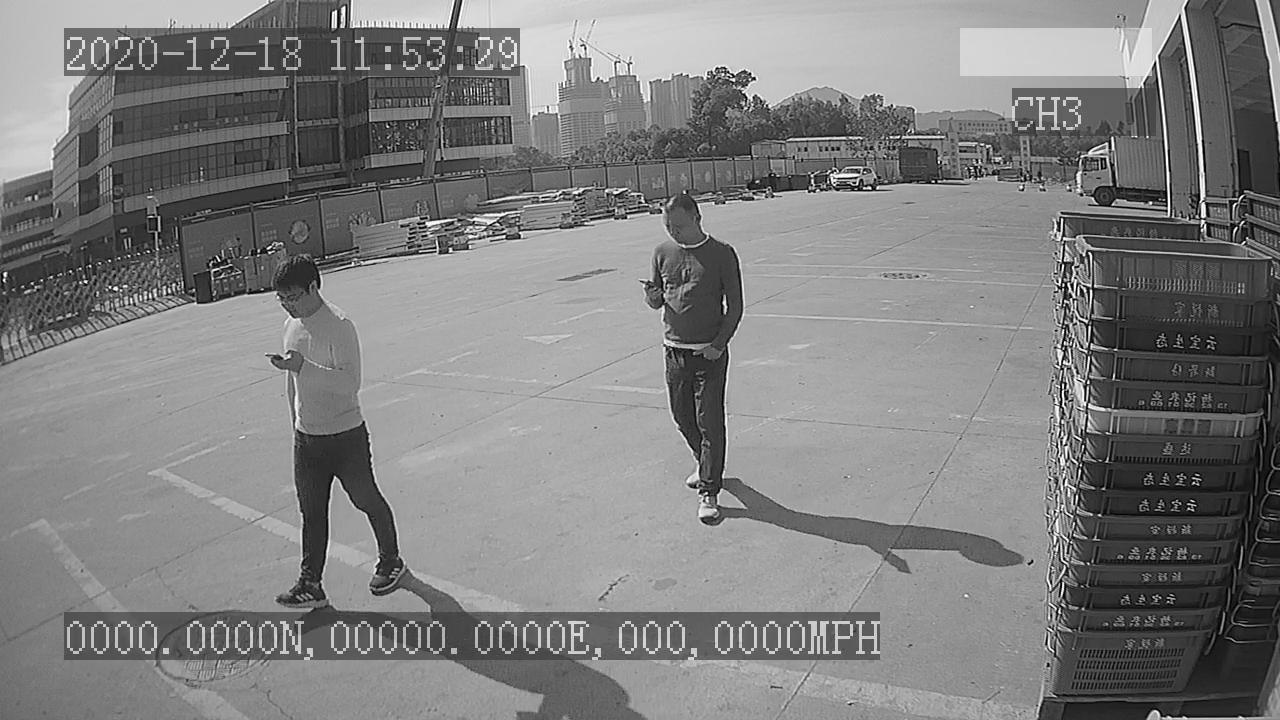person: (251, 249, 411, 606), (633, 186, 751, 533)
